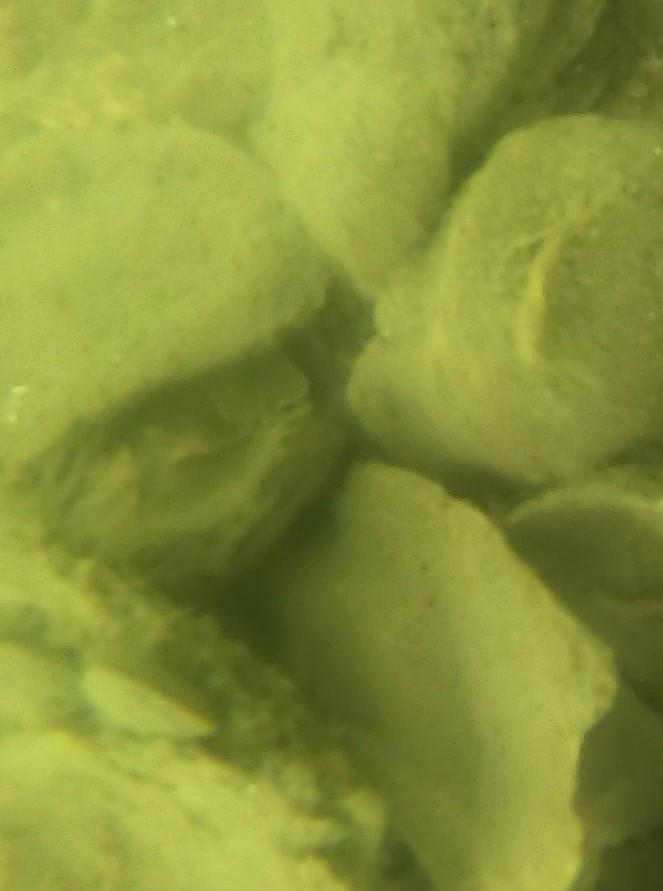Oyster-Closed: (274, 462, 623, 891), (250, 0, 609, 309), (239, 275, 380, 562)
Oyster-Open: (0, 520, 389, 891), (0, 90, 325, 481), (350, 115, 663, 486), (37, 351, 310, 580), (506, 465, 663, 711), (583, 682, 663, 847)
